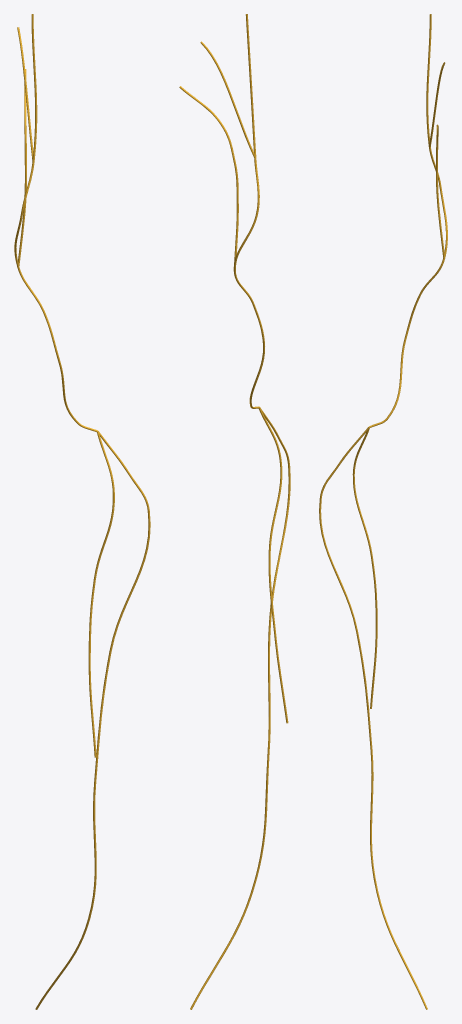
The model's file is nervoso-obturator-nerve-r.glb.
The picture shows the model from 3 angles, left to right: view 1: azimuth 90°, elevation 25°; view 2: azimuth 150°, elevation 25°; view 3: azimuth 270°, elevation 25°; orthographic projection. The views are drawn at different scales.
Visible parts, largest first — view 1: Obturator nerve.r, Anterior branch of obturator nerve.r, Posterior branch of obturator nerve.r; view 2: Obturator nerve.r, Anterior branch of obturator nerve.r, Posterior branch of obturator nerve.r; view 3: Obturator nerve.r, Anterior branch of obturator nerve.r, Posterior branch of obturator nerve.r.
Boxes of the visible parts, box(x1,y1,x2,y2) form: Obturator nerve.r: box(14, 14, 97, 432); Anterior branch of obturator nerve.r: box(35, 431, 150, 1009); Posterior branch of obturator nerve.r: box(88, 431, 114, 757); Obturator nerve.r: box(179, 14, 264, 408); Anterior branch of obturator nerve.r: box(190, 409, 290, 1009); Posterior branch of obturator nerve.r: box(259, 408, 288, 723); Obturator nerve.r: box(369, 14, 447, 428); Anterior branch of obturator nerve.r: box(319, 427, 427, 1009); Posterior branch of obturator nerve.r: box(352, 428, 377, 708).
Size of the model in its own units: 0.0437 by 0.5218 by 0.063.
